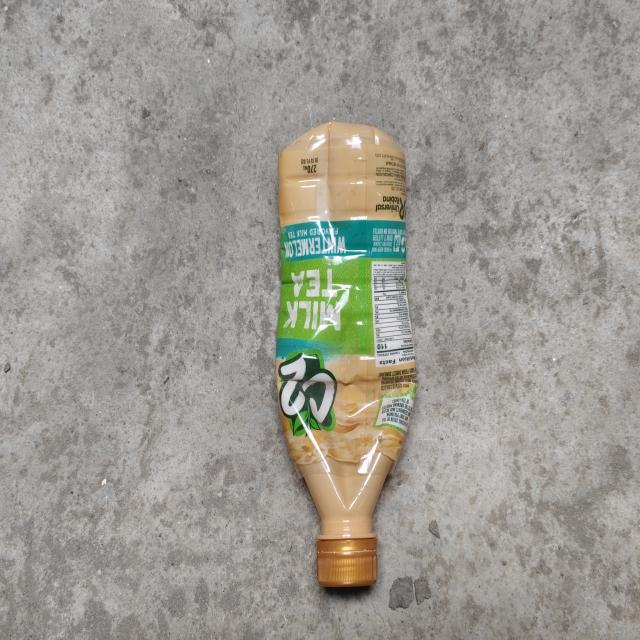Bottle: (273, 121, 418, 595)
